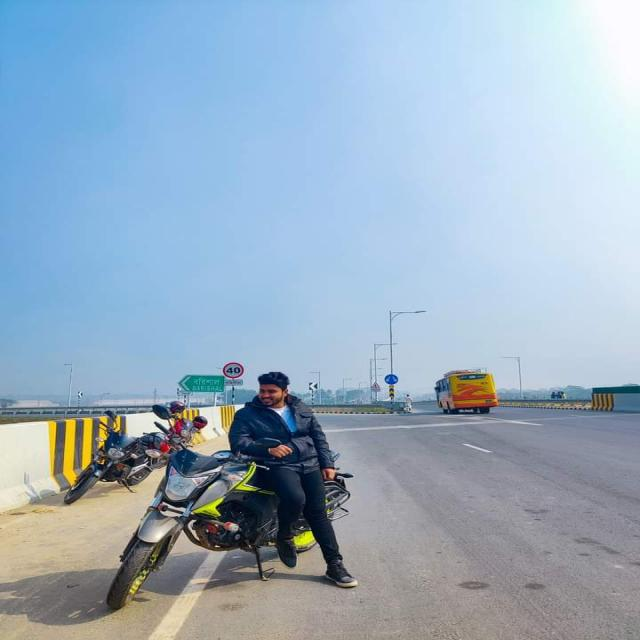No helmet: (251, 370, 299, 411)
